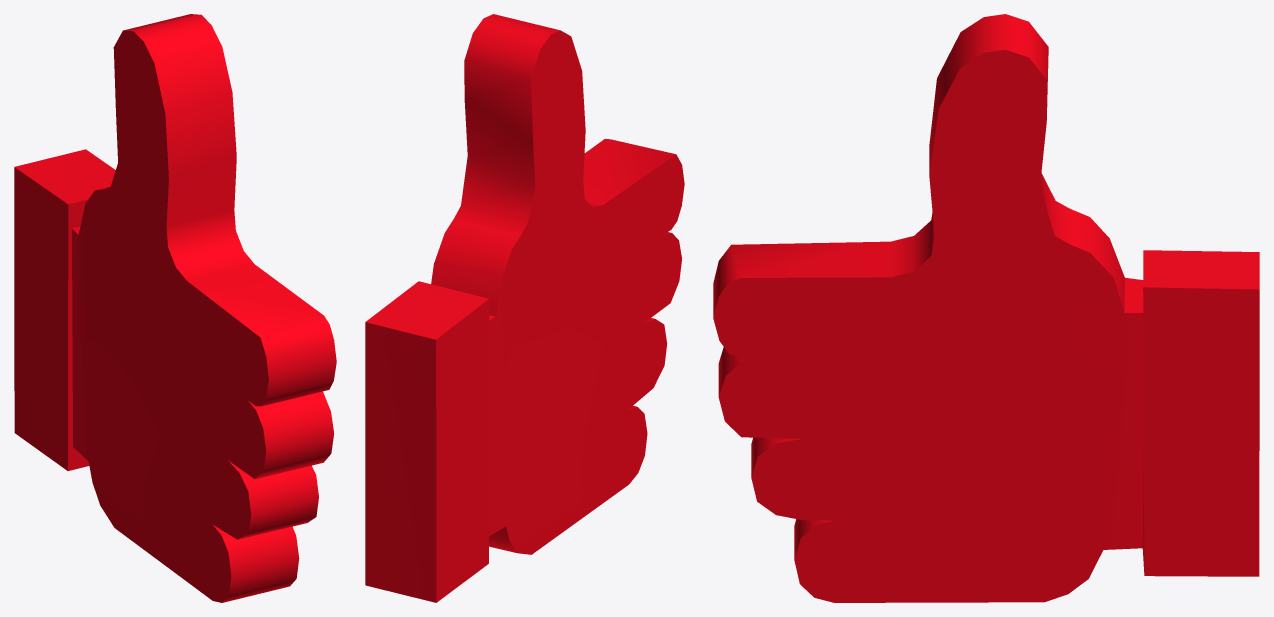
The model's file is Good.fbx.
3 views of the same model, side by side, from view 1: azimuth 30°, elevation 25°; view 2: azimuth 150°, elevation 25°; view 3: azimuth 270°, elevation 25° (orthographic). The views are drawn at different scales.
Visible parts, largest first — view 1: 立方体; view 2: 立方体; view 3: 立方体.
Boxes of the visible parts, x1,y1,x2,y2 form: 立方体: (14,14,336,602); 立方体: (365,14,684,602); 立方体: (713,14,1259,602).
Size of the model in its own units: 49.6 by 339 by 304.
